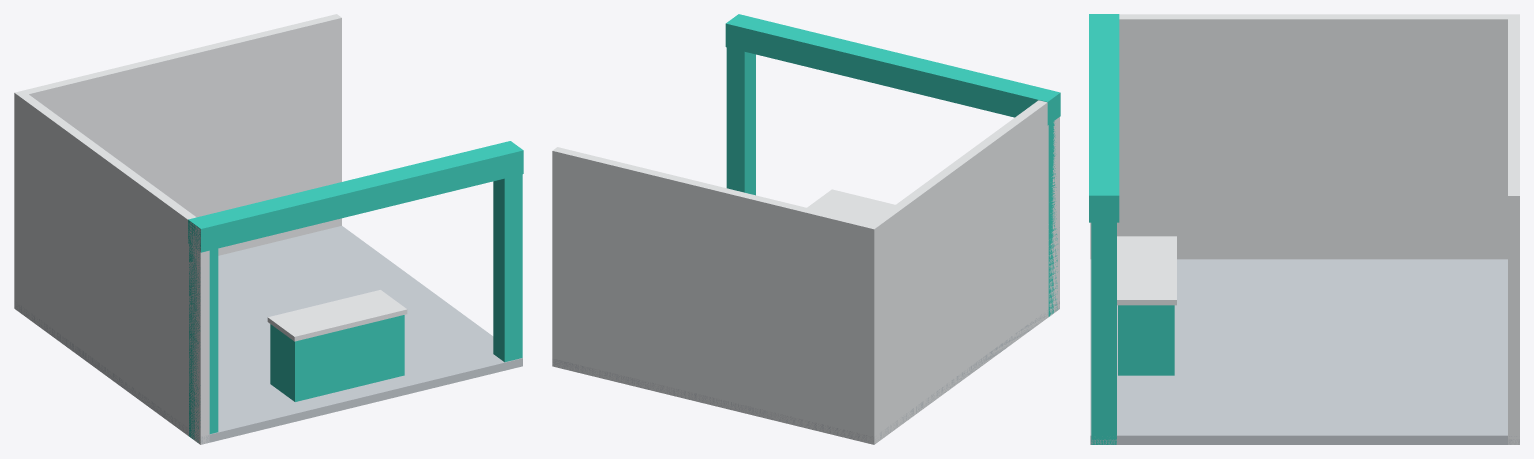
3 views of the same model, side by side, from view 1: azimuth 30°, elevation 25°; view 2: azimuth 150°, elevation 25°; view 3: azimuth 270°, elevation 25° (orthographic). The views are drawn at different scales.
Parts seen in each view (by area): view 1: Exhibition Booth Concept; view 2: Exhibition Booth Concept; view 3: Exhibition Booth Concept.
Boxes of the visible parts, x1,y1,x2,y2 form: Exhibition Booth Concept: [14, 14, 523, 444]; Exhibition Booth Concept: [552, 14, 1060, 444]; Exhibition Booth Concept: [1089, 14, 1519, 444].
Size of the model in its own units: 5 by 3.2 by 5.02.
